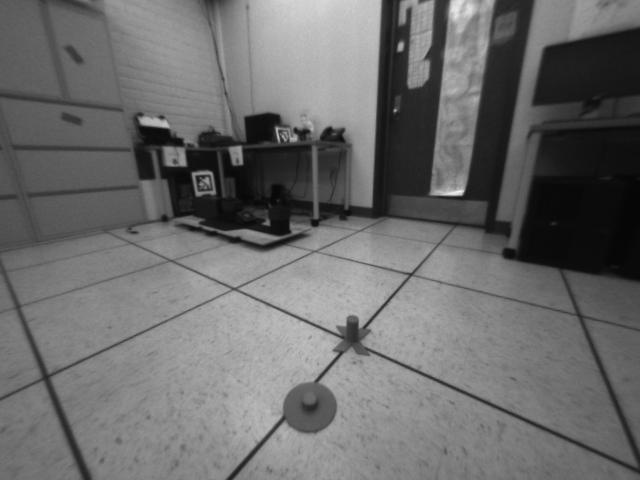X: (332, 314, 372, 357)
